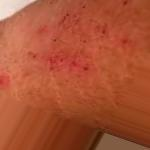Ants: (46, 57, 70, 72), (71, 58, 92, 74), (60, 13, 78, 29), (0, 72, 11, 89), (97, 24, 108, 37), (26, 50, 39, 61), (117, 37, 128, 46), (50, 36, 58, 44), (122, 0, 129, 7), (80, 38, 87, 45)
